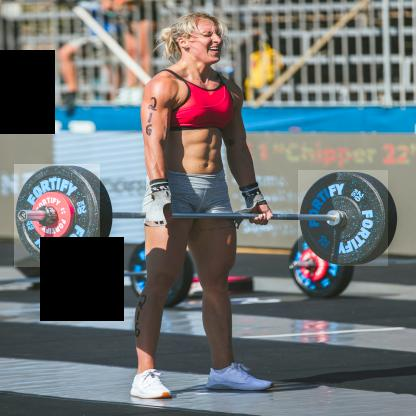barbell: (16, 165, 102, 268), (299, 172, 389, 268)
